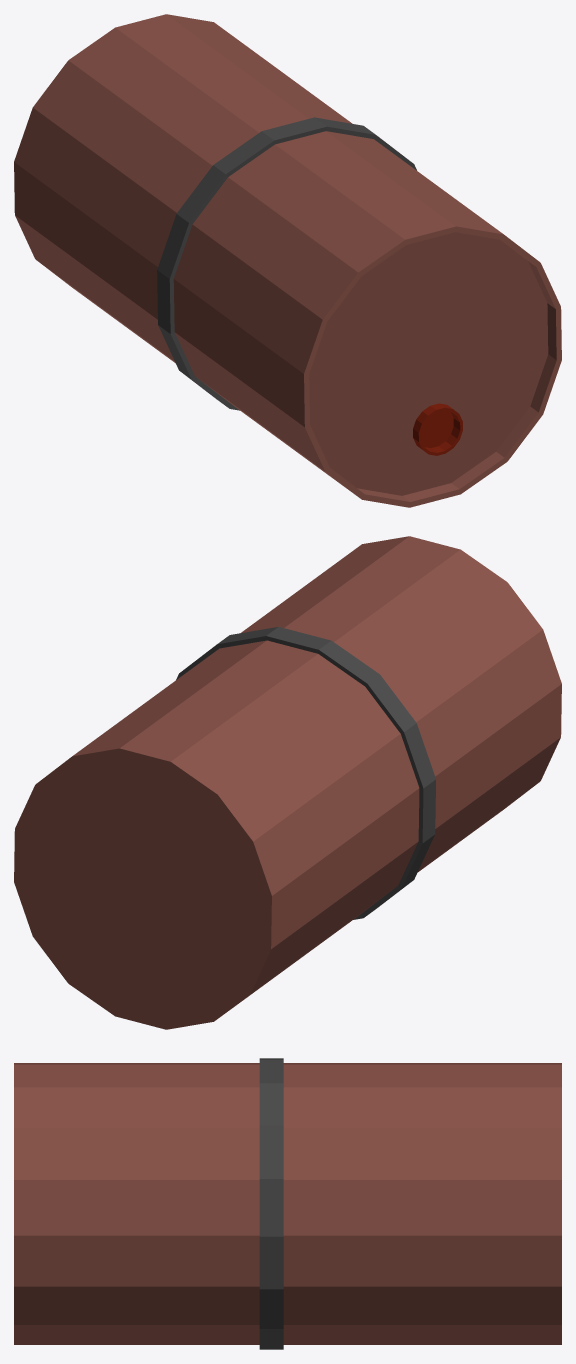
Rendered from OilBarrel.fbx.
3 renders of one model, top to bottom at view 1: azimuth 30°, elevation 25°; view 2: azimuth 150°, elevation 25°; view 3: azimuth 270°, elevation 25°, orthographic. The views are drawn at different scales.
Visible parts, largest first — view 1: Barrel; view 2: Barrel; view 3: Barrel.
Part boxes in pixels (left/top/right/bottom): Barrel: left=14, top=14, right=561, bottom=507; Barrel: left=14, top=536, right=561, bottom=1029; Barrel: left=14, top=1058, right=561, bottom=1349.
Size of the model in its own units: 0.8731 by 0.8731 by 1.65.
